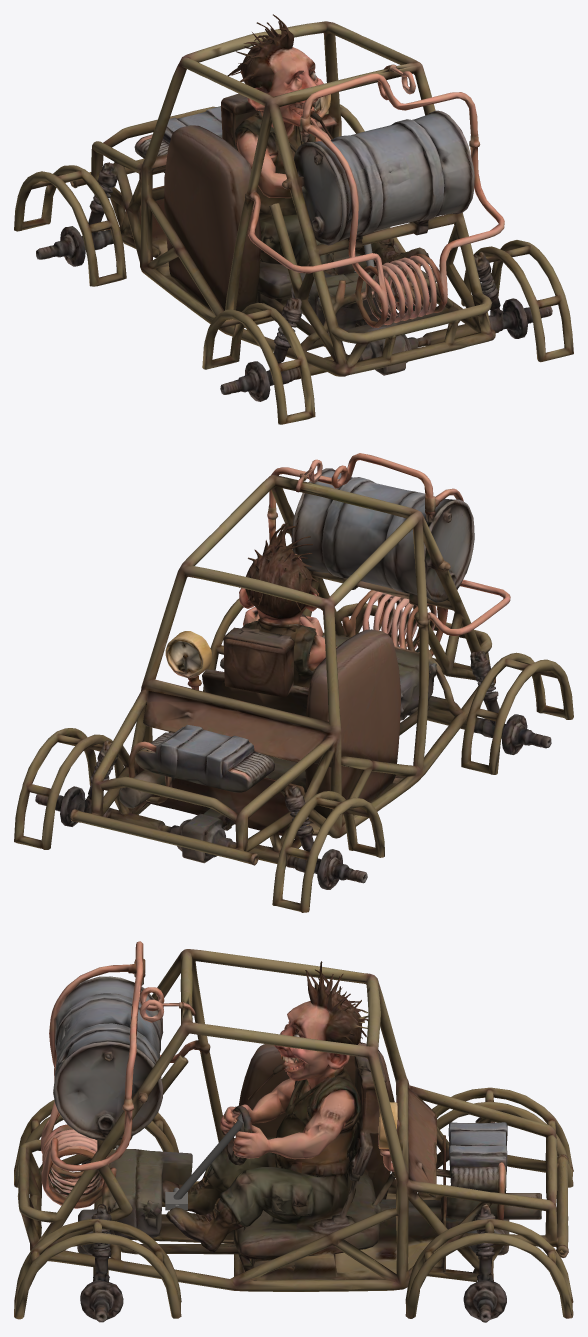
Rendered from cletus.glb.
3 views of the same model, one above another, from view 1: azimuth 30°, elevation 25°; view 2: azimuth 150°, elevation 25°; view 3: azimuth 270°, elevation 25° (orthographic). The views are drawn at different scales.
Visible parts, largest first — view 1: tripo_node_673a2e45-fae3-4ebc-bd4a-cd30f8afc349; view 2: tripo_node_673a2e45-fae3-4ebc-bd4a-cd30f8afc349; view 3: tripo_node_673a2e45-fae3-4ebc-bd4a-cd30f8afc349, steering_column.
Boxes of the visible parts, box(x1,y1,x2,y2) form: tripo_node_673a2e45-fae3-4ebc-bd4a-cd30f8afc349: box(14, 14, 573, 424); tripo_node_673a2e45-fae3-4ebc-bd4a-cd30f8afc349: box(14, 453, 573, 912); tripo_node_673a2e45-fae3-4ebc-bd4a-cd30f8afc349: box(14, 941, 573, 1322); steering_column: box(165, 1113, 251, 1210).
Size of the model in its own units: 0.6871 by 0.561 by 0.9789.
Materials: 2 (1 with a texture image).
